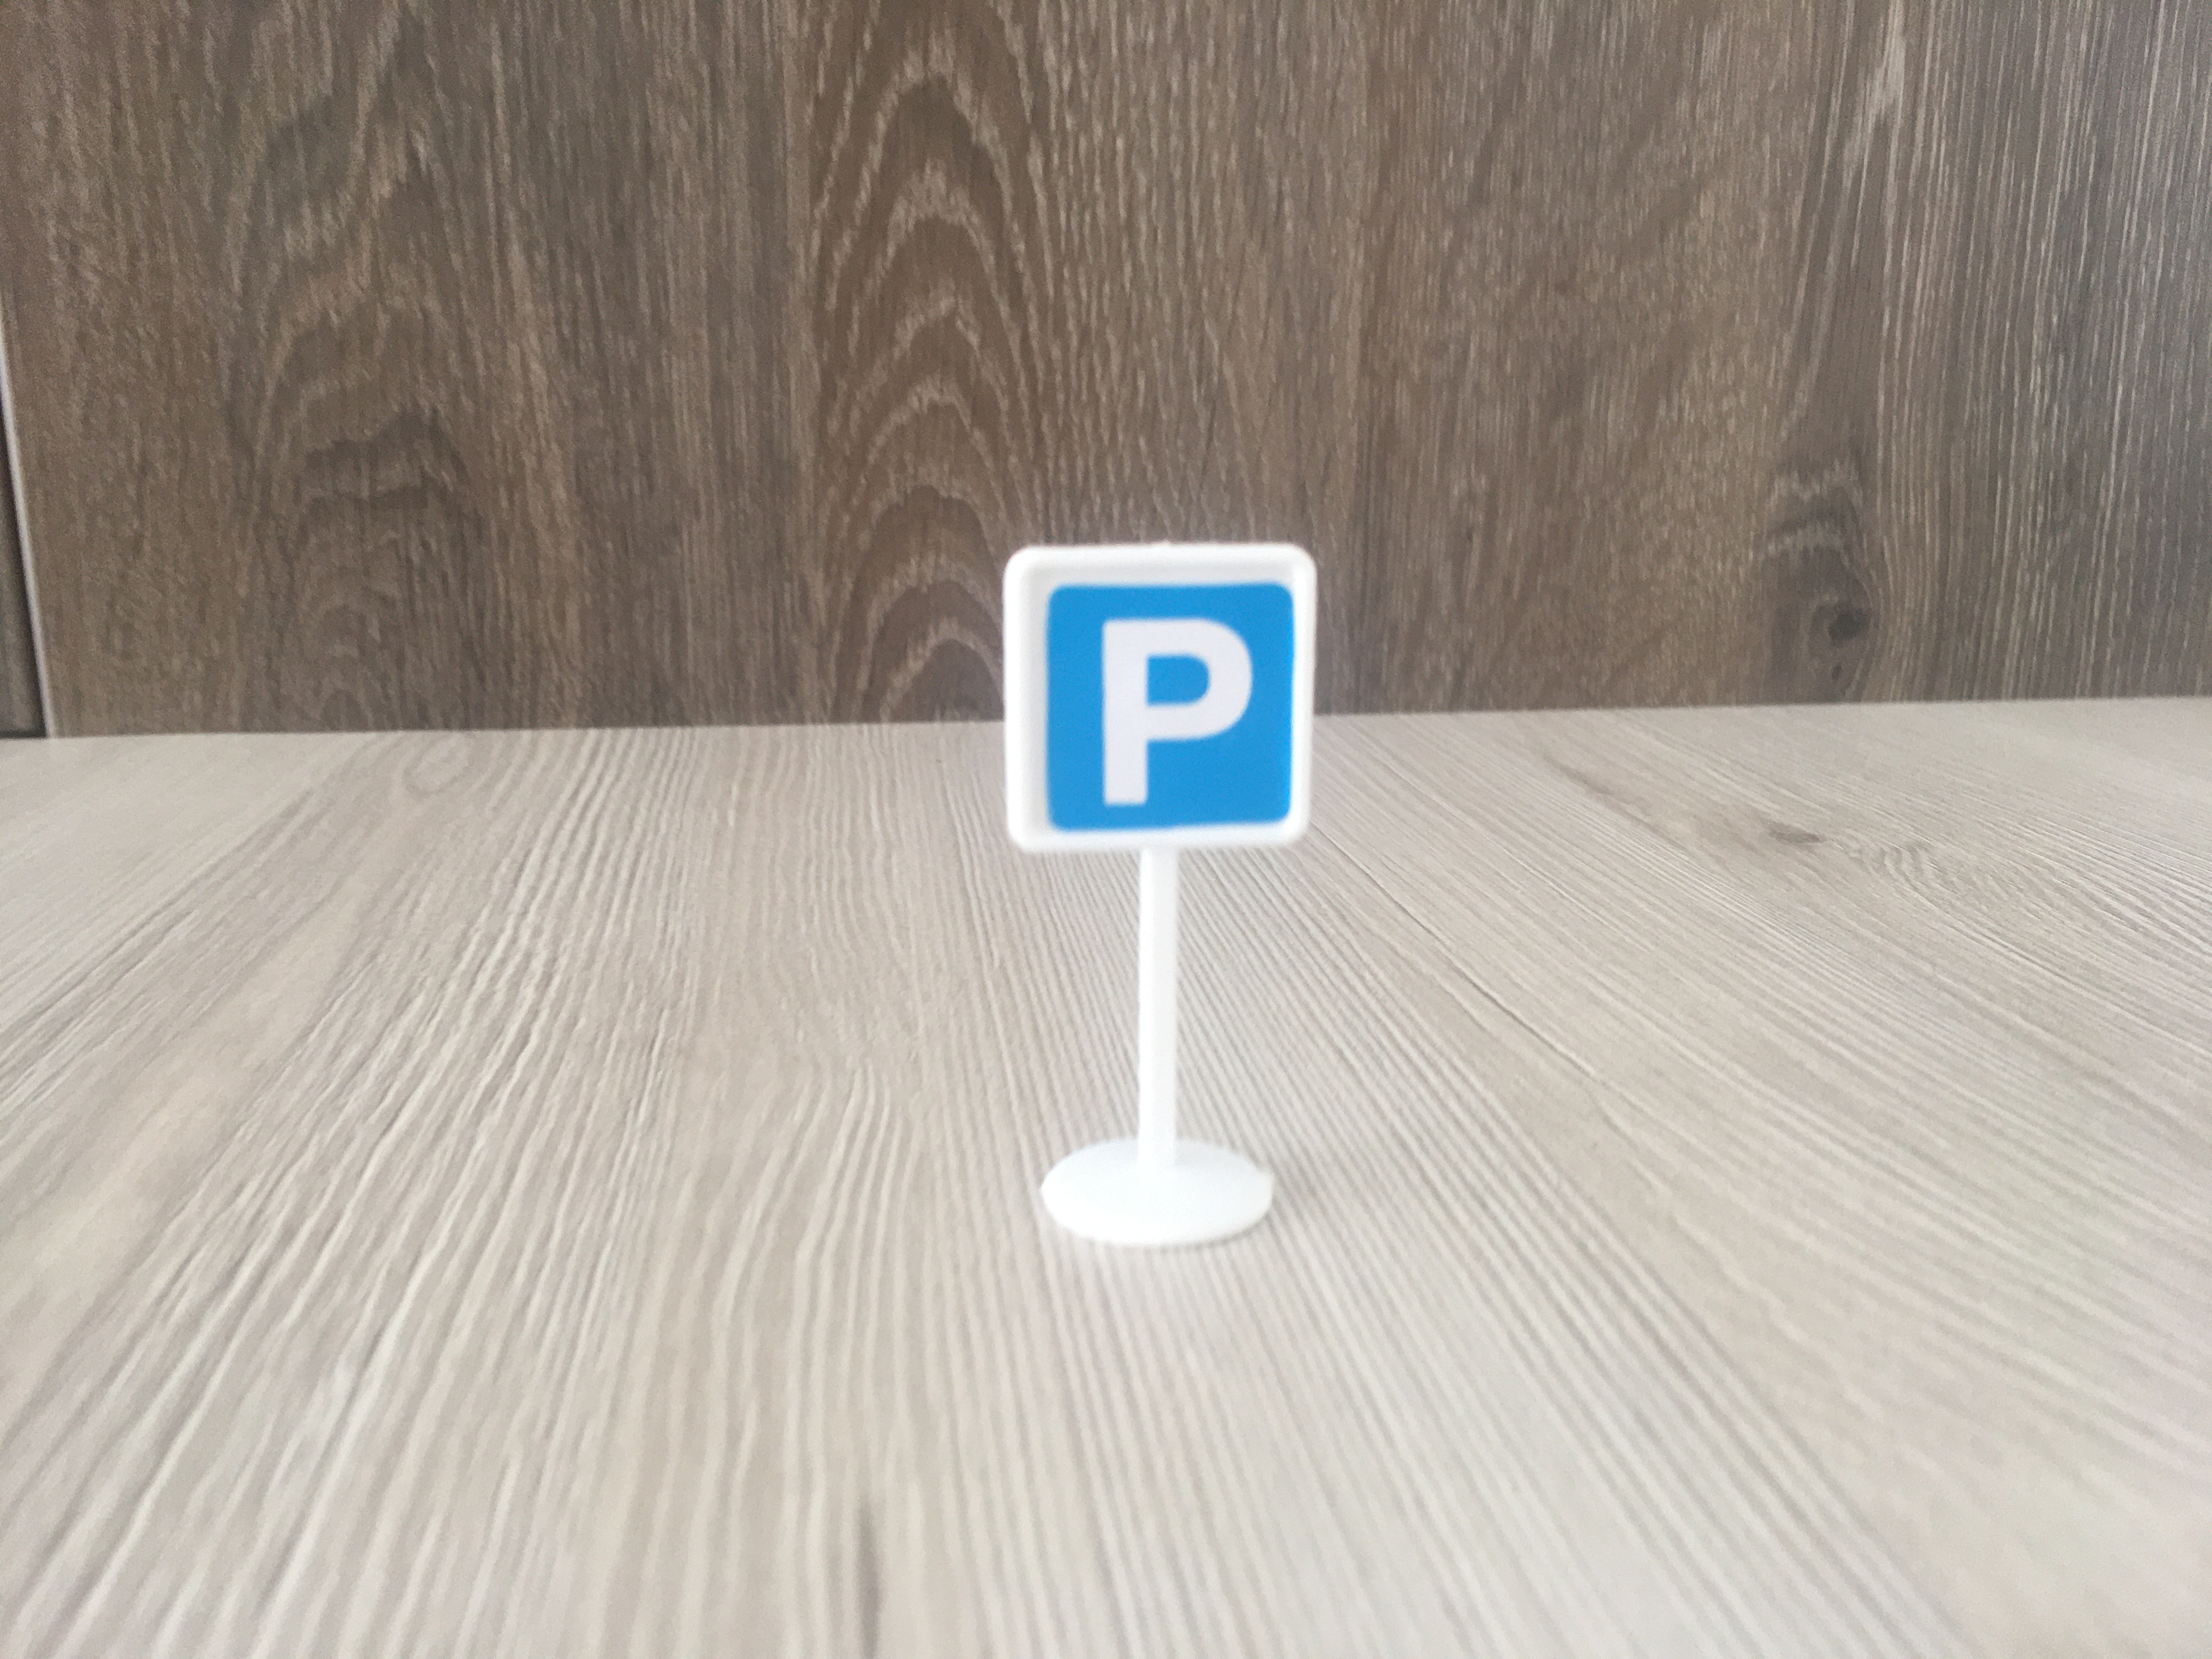parking: (1005, 547, 1315, 850)
